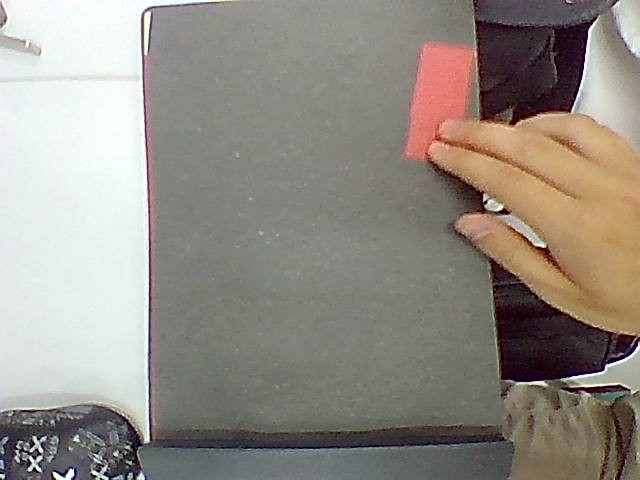card: (405, 43, 474, 159)
